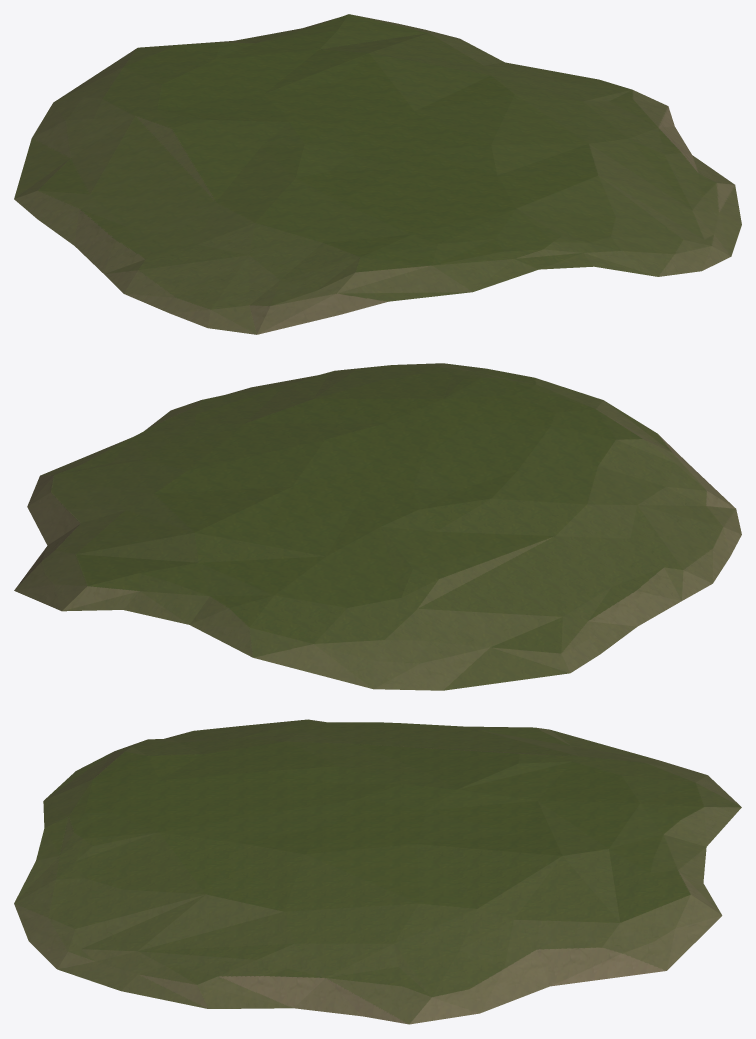
Rendered from SM_Env_Ground_Mound_Large_03.glb.
The picture shows the model from 3 angles, top to bottom: view 1: azimuth 30°, elevation 25°; view 2: azimuth 150°, elevation 25°; view 3: azimuth 270°, elevation 25°; orthographic projection. The views are drawn at different scales.
Visible parts, largest first — view 1: SM_Env_Ground_Mound_Large_03; view 2: SM_Env_Ground_Mound_Large_03; view 3: SM_Env_Ground_Mound_Large_03.
Part boxes in pixels (x1,y1,x2,y2): SM_Env_Ground_Mound_Large_03: (14, 14, 741, 334); SM_Env_Ground_Mound_Large_03: (14, 363, 741, 690); SM_Env_Ground_Mound_Large_03: (14, 719, 741, 1024).
Size of the model in its own units: 36.64 by 3.15 by 37.3.
Materials: 1 (1 with a texture image).
